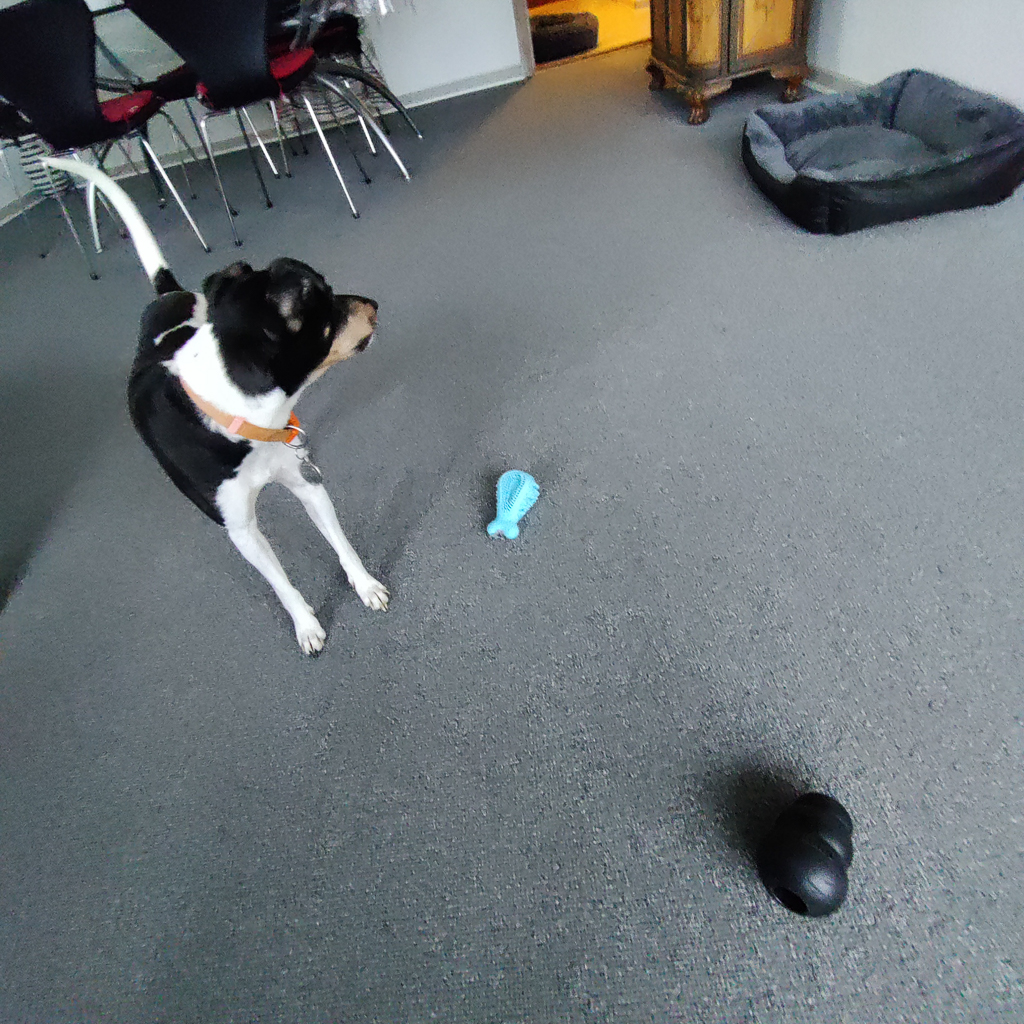Dog: (25, 144, 421, 672)
